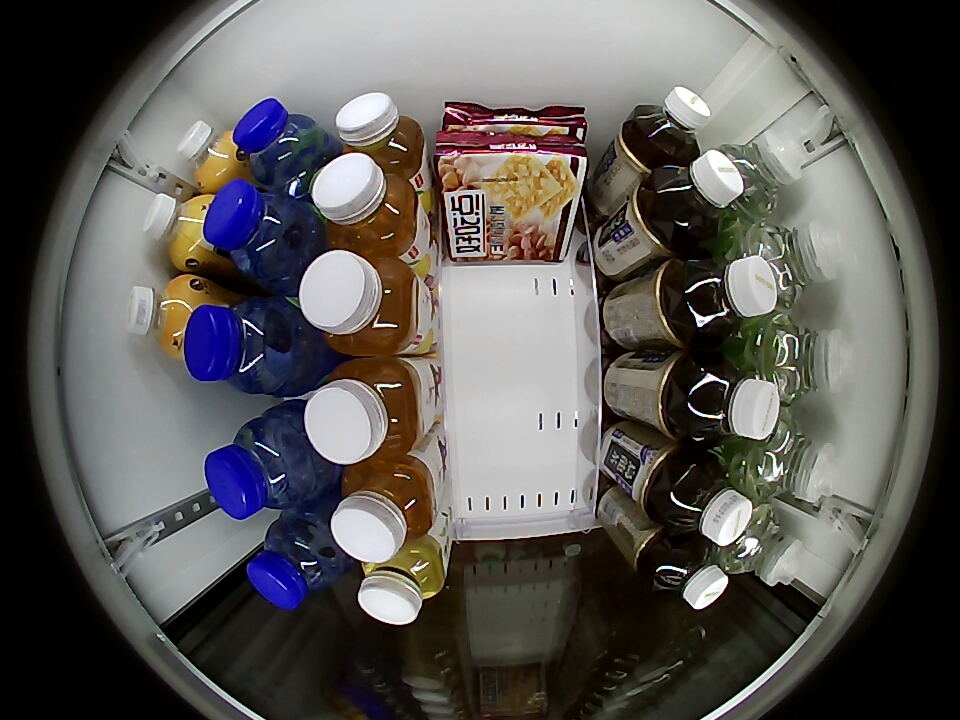asamu: (125, 275, 205, 357), (142, 193, 217, 269), (178, 121, 244, 189)
chapai: (304, 358, 423, 465), (299, 250, 420, 355), (311, 153, 422, 254), (331, 458, 437, 563), (335, 92, 425, 175)
chapai2: (357, 538, 447, 625)
haochidian: (437, 134, 588, 215), (439, 103, 589, 139)
jianjiao: (747, 220, 842, 309), (744, 418, 838, 502), (763, 316, 852, 404), (718, 503, 803, 587), (722, 134, 803, 220)
maidong: (204, 413, 317, 519), (184, 296, 301, 394), (204, 181, 314, 284), (247, 515, 345, 609), (233, 98, 325, 190)
wulongcha: (648, 150, 746, 244), (681, 251, 779, 343), (684, 355, 782, 444), (662, 454, 754, 546), (631, 86, 711, 162), (649, 537, 728, 610)
